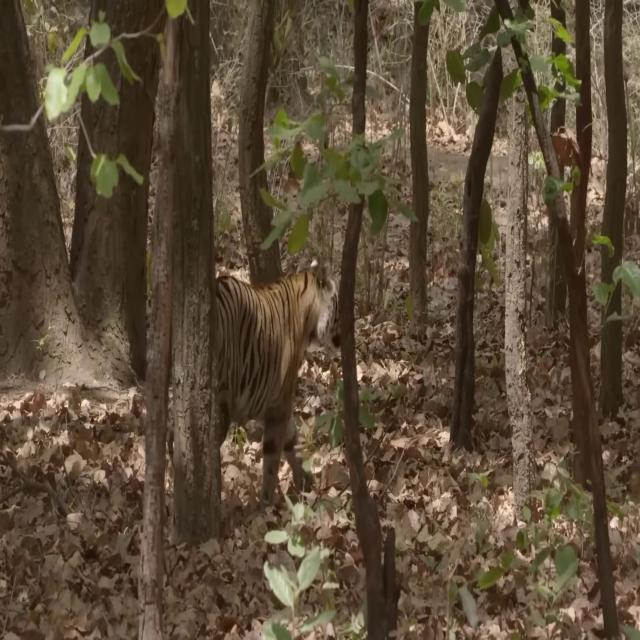tiger: (218, 255, 339, 508)
